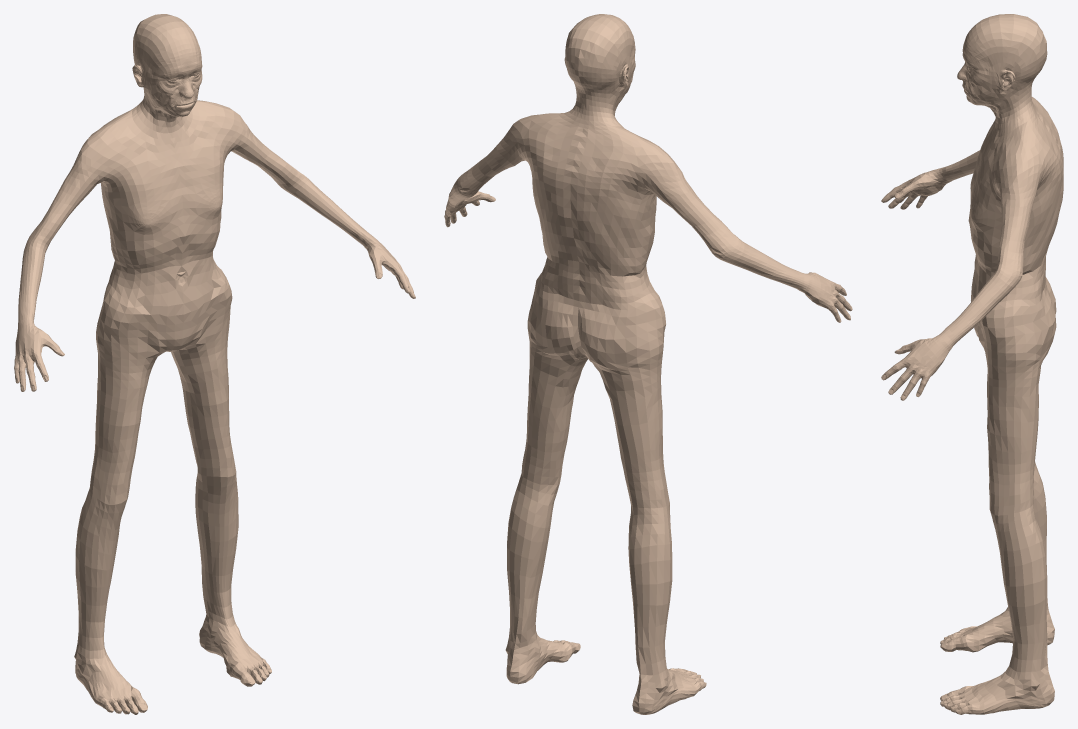
Rendered from male-elder-lean-low.glb.
3 views of the same model, side by side, from view 1: azimuth 30°, elevation 25°; view 2: azimuth 150°, elevation 25°; view 3: azimuth 270°, elevation 25° (orthographic).
Parts seen in each view (by area): view 1: world; view 2: world; view 3: world.
Boxes of the visible parts, x1=… form: world: x1=14, y1=14, x2=415, y2=714; world: x1=444, y1=14, x2=852, y2=714; world: x1=881, y1=14, x2=1063, y2=714.
Bounding box in the file's own units: 1.2 × 1.92 × 0.4817.
